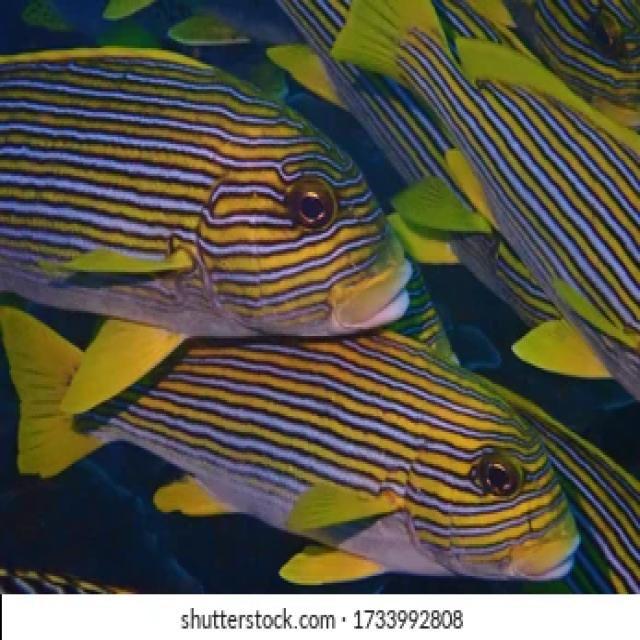RibbonedSweetlips: (0, 306, 581, 588), (0, 45, 411, 416)
